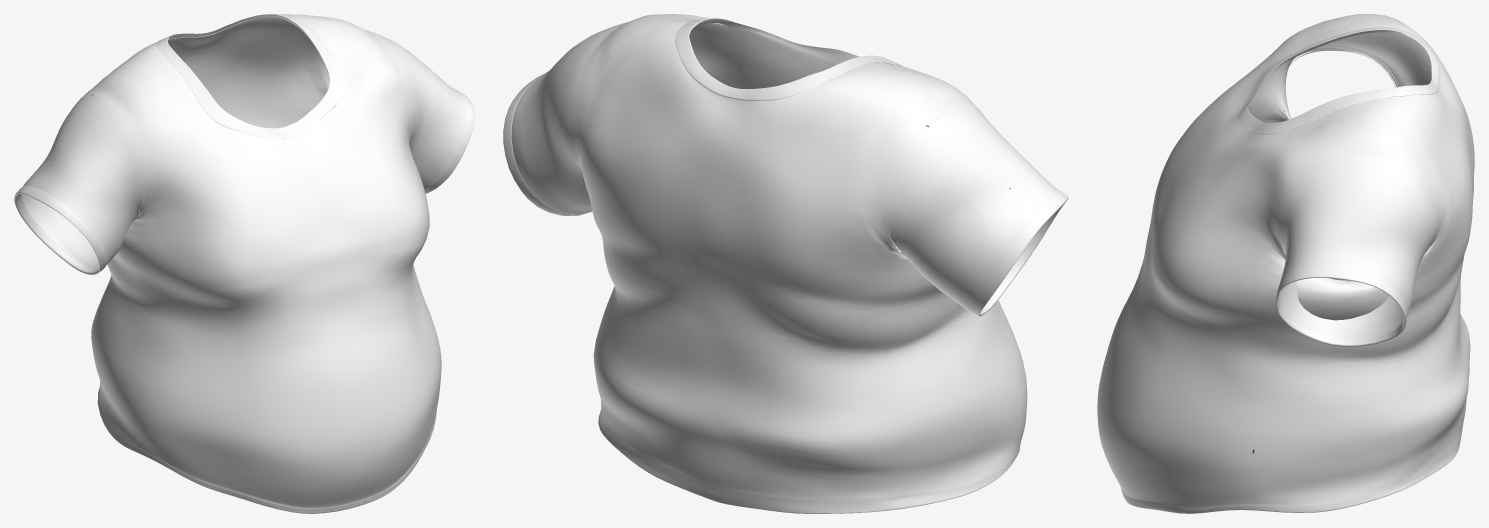
Rendered from Shirt.glb.
The picture shows the model from 3 angles, left to right: view 1: azimuth 30°, elevation 25°; view 2: azimuth 150°, elevation 25°; view 3: azimuth 270°, elevation 25°; orthographic projection. The views are drawn at different scales.
Parts seen in each view (by area): view 1: TShirt_for_Genesis.002; view 2: TShirt_for_Genesis.002; view 3: TShirt_for_Genesis.002.
Part boxes in pixels (box(x1,y1,x2,y2)): TShirt_for_Genesis.002: box(14, 14, 474, 513); TShirt_for_Genesis.002: box(503, 14, 1068, 513); TShirt_for_Genesis.002: box(1097, 14, 1474, 513).
Size of the model in its own units: 13.9 by 12.05 by 9.7.
1 material, 1 textured.
